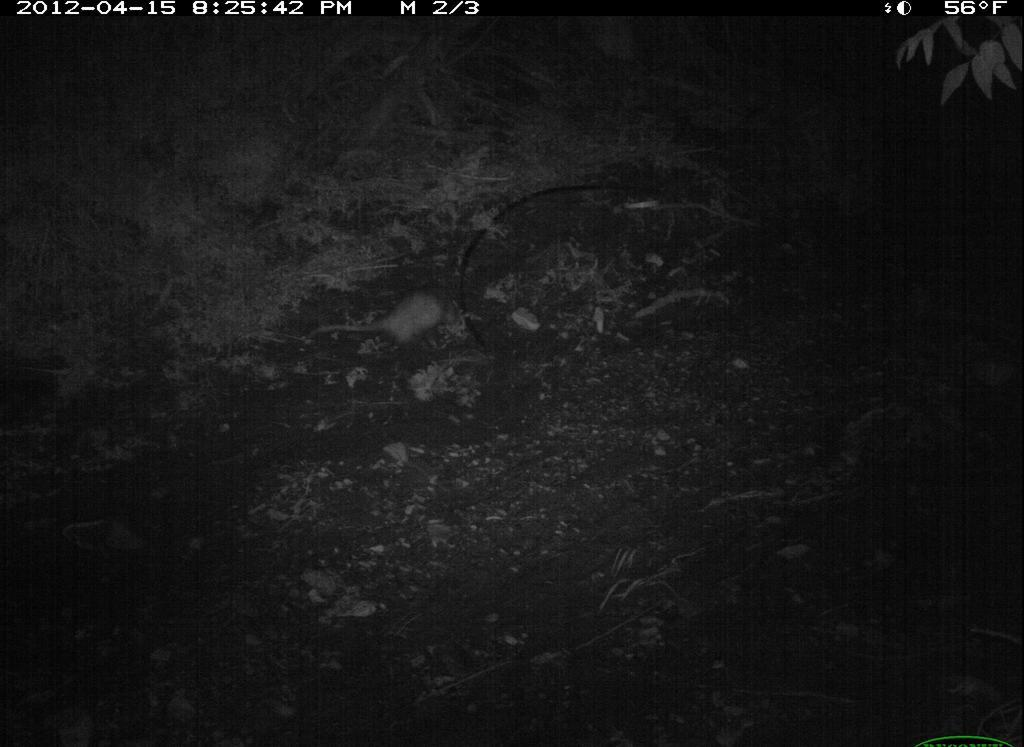opossum: (313, 281, 491, 376)
